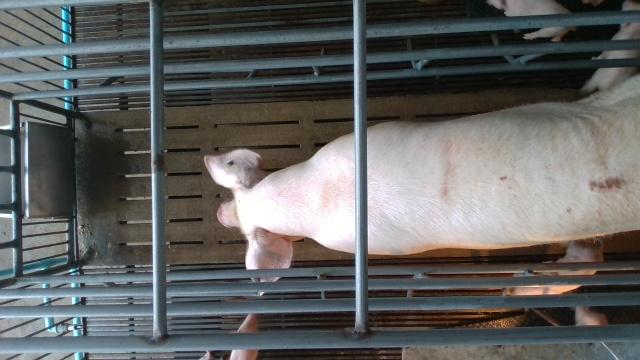piglet: (502, 238, 605, 295), (579, 1, 640, 93), (487, 0, 577, 41), (230, 313, 258, 360)
sow-stand: (205, 72, 640, 297)
